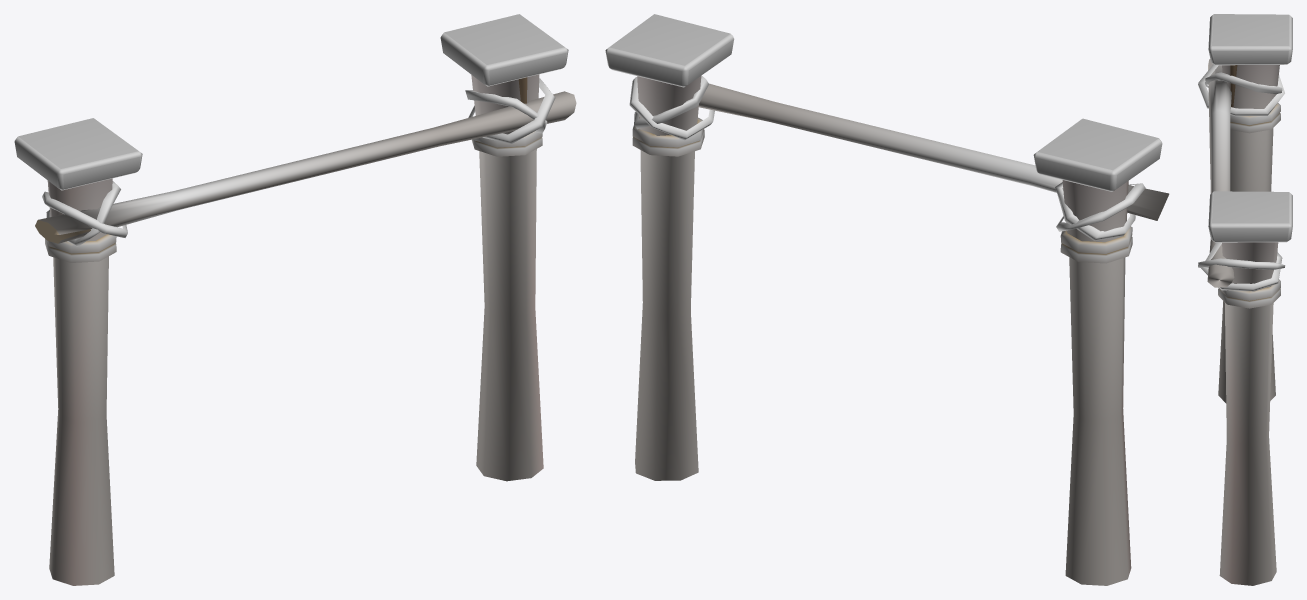
Rendered from CatwalkPillar_10.glb.
3 views of the same model, side by side, from view 1: azimuth 30°, elevation 25°; view 2: azimuth 150°, elevation 25°; view 3: azimuth 270°, elevation 25° (orthographic). The views are drawn at different scales.
Parts seen in each view (by area): view 1: CatwalkPillar; view 2: CatwalkPillar; view 3: CatwalkPillar.
Boxes of the visible parts, <box> form: CatwalkPillar: <box>14,14,576,585</box>; CatwalkPillar: <box>605,14,1169,585</box>; CatwalkPillar: <box>1198,14,1292,585</box>.
Size of the model in its own units: 2.21 by 1.71 by 0.4023.
